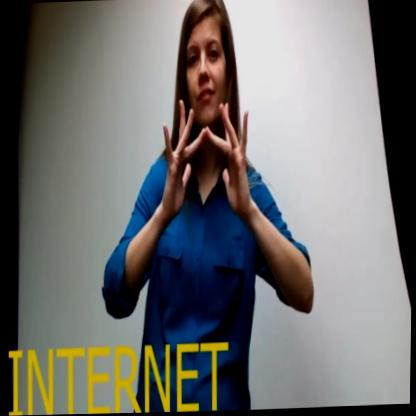Internet: (163, 91, 252, 228)
